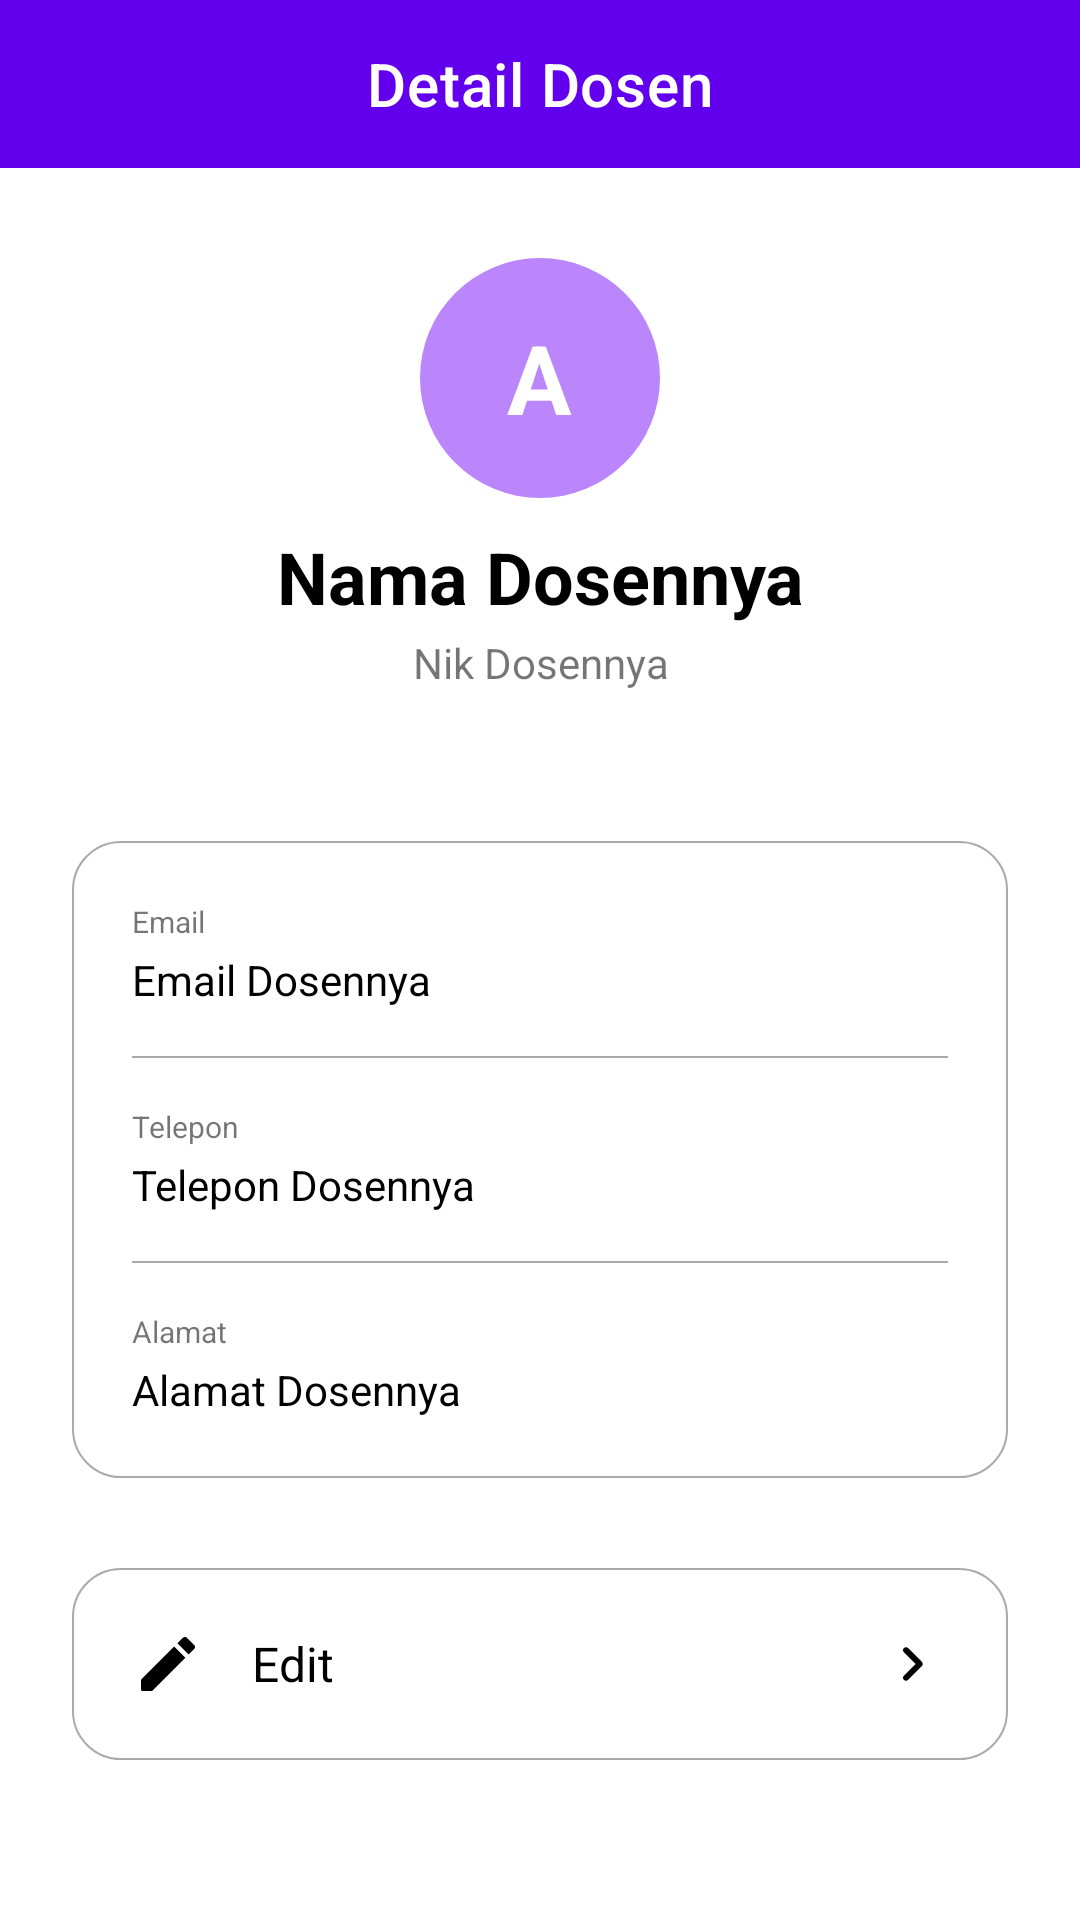

Named icons in this screenshot (1080 x 1920) and their centers, [x,y]:
chevron right: [913,1664]
